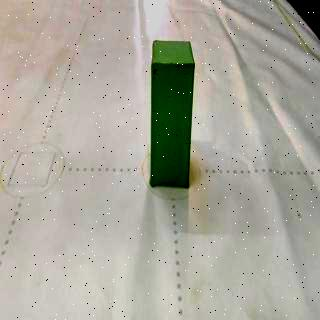greenbox: (148, 35, 196, 188)
